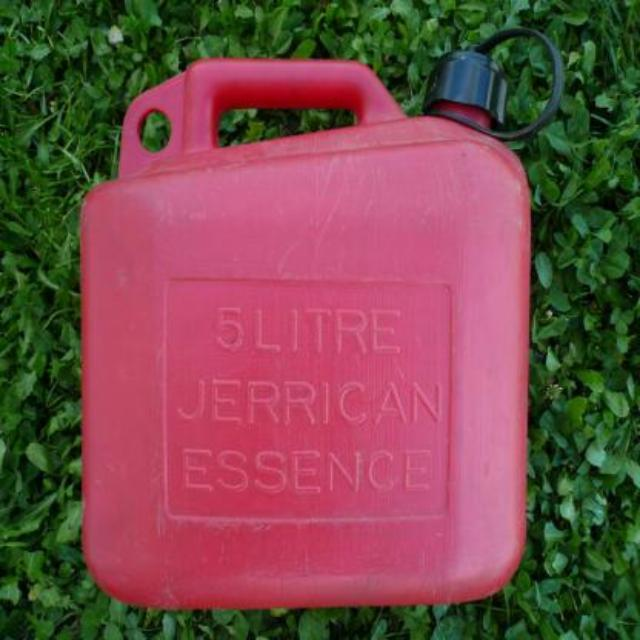Botella de plastico: (82, 40, 530, 609)
